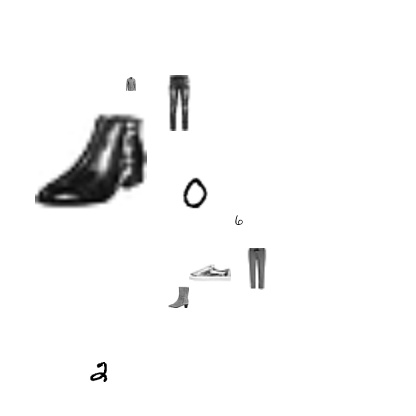0: (173, 172, 215, 214)
2: (86, 359, 114, 387)
6: (231, 214, 245, 228)
Ankle_boot: (35, 103, 147, 215), (168, 286, 190, 308)
Shirt: (124, 77, 138, 91)
Sneaker: (189, 251, 231, 293)
Trouser: (150, 75, 206, 131), (236, 248, 278, 290)
